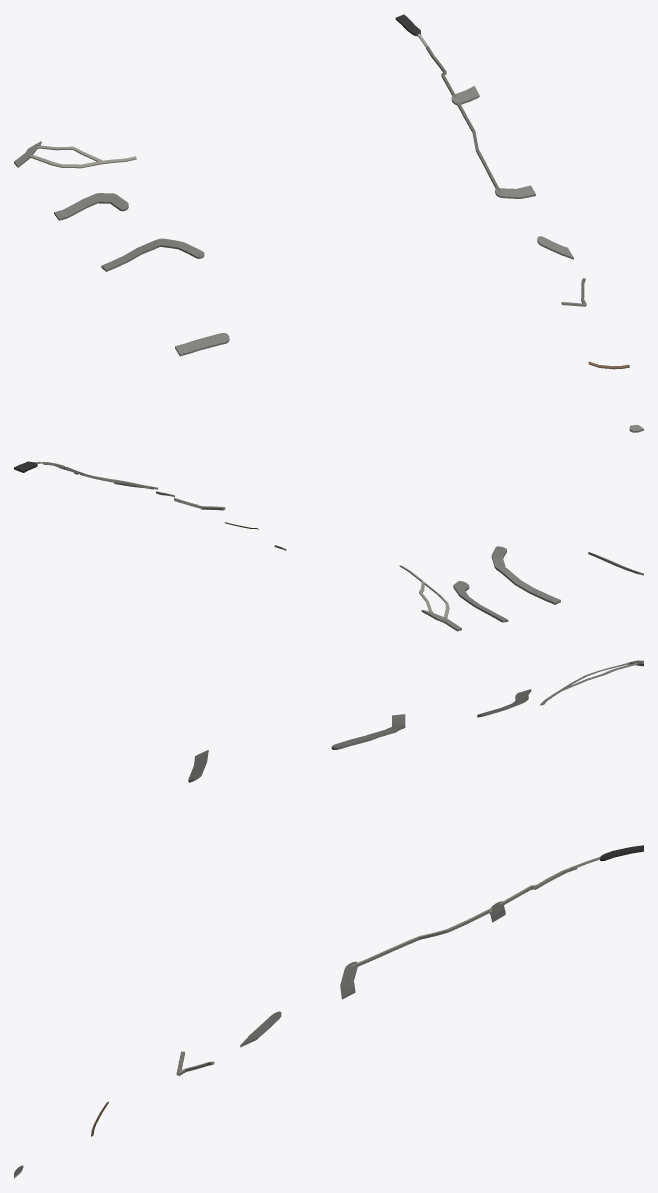
The model's file is 17-109440-59470.fbf31b51.glb.
The picture shows the model from 3 angles, top to bottom: view 1: azimuth 30°, elevation 25°; view 2: azimuth 150°, elevation 25°; view 3: azimuth 270°, elevation 25°; orthographic projection. The views are drawn at different scales.
Size of the model in its own units: 294 by 167 by 292.
